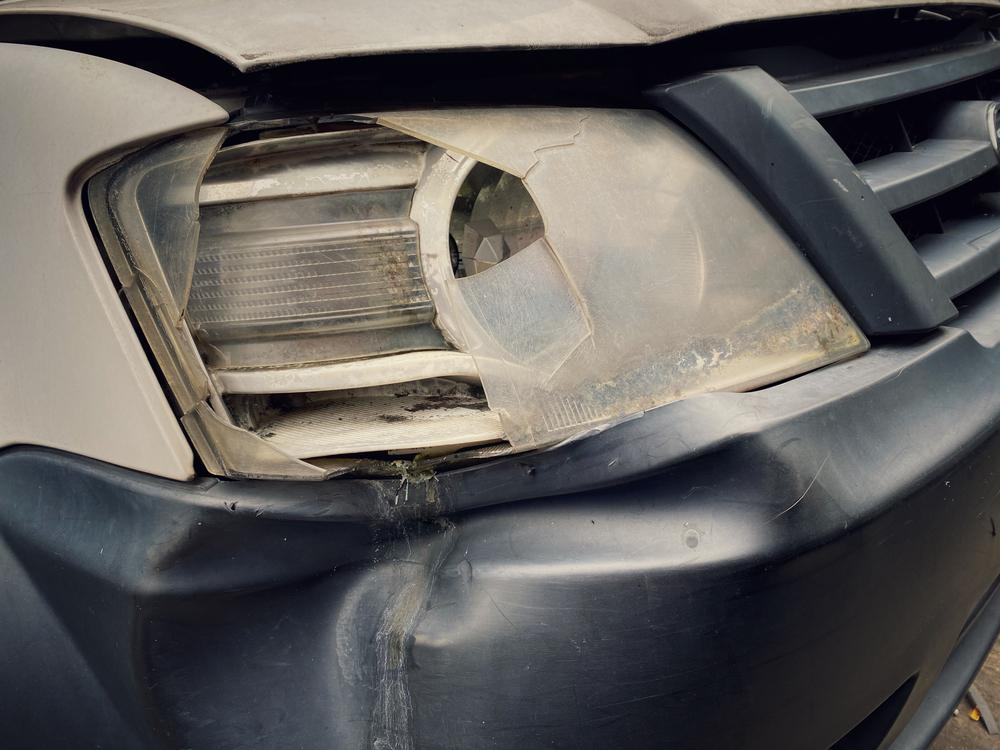dent: (140, 434, 790, 750)
lamp broken: (84, 103, 874, 479)
